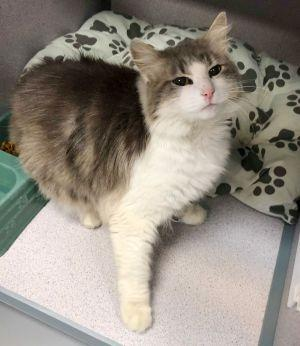ragdoll: (126, 6, 250, 132)
